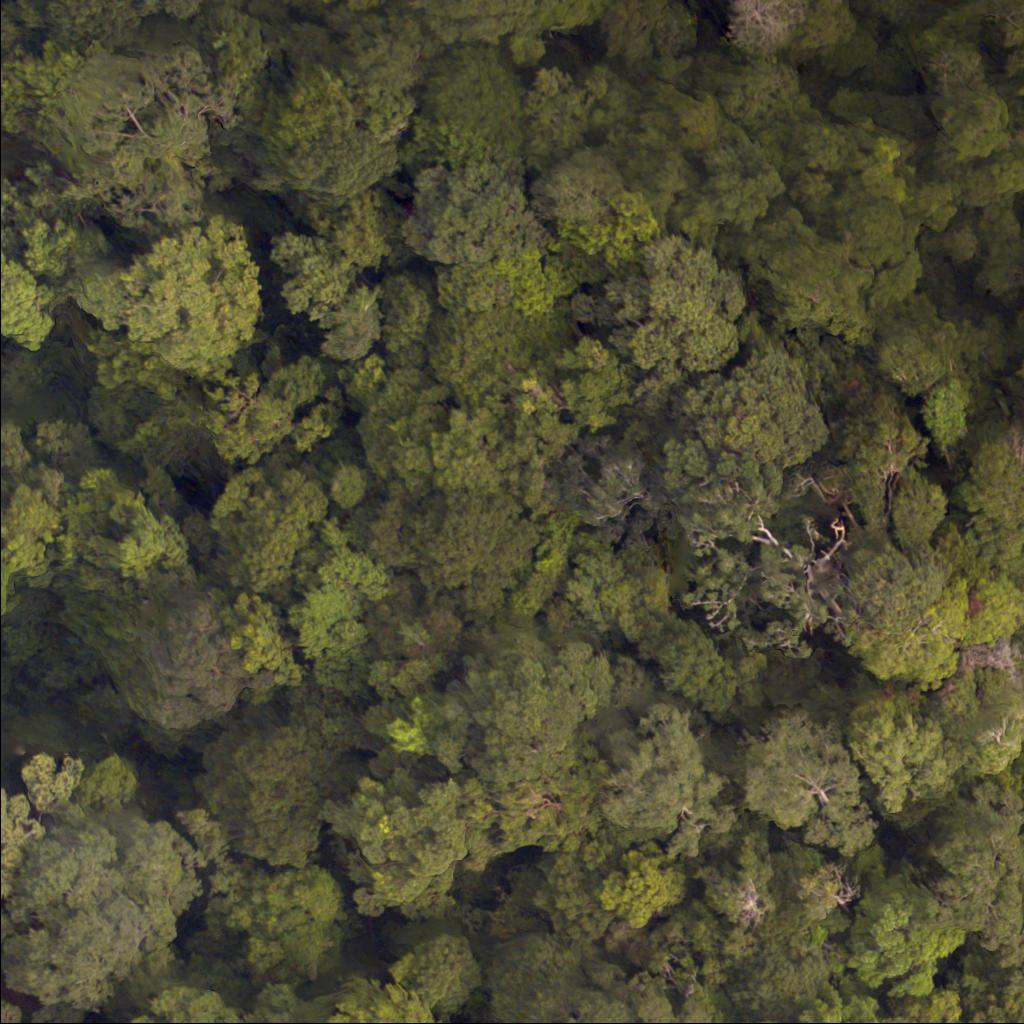crown: (659, 439, 856, 661), (712, 195, 876, 346), (783, 392, 931, 553), (601, 701, 741, 861), (598, 233, 744, 384), (735, 705, 877, 856), (837, 541, 971, 689), (844, 845, 965, 1003), (671, 348, 830, 468), (933, 778, 1023, 969), (739, 310, 899, 408), (632, 608, 765, 721), (915, 202, 1023, 330), (845, 693, 949, 816), (666, 156, 788, 256), (925, 668, 1023, 776), (760, 648, 883, 733), (862, 291, 960, 397), (958, 422, 1023, 577), (596, 435, 679, 553), (725, 944, 832, 1023), (614, 374, 704, 462), (596, 960, 711, 1023), (601, 843, 687, 926), (600, 566, 669, 637), (598, 189, 660, 267), (842, 198, 909, 269), (964, 571, 1023, 649), (892, 475, 951, 553), (794, 982, 890, 1023), (957, 633, 1023, 692), (796, 862, 858, 922), (724, 877, 778, 931), (951, 976, 1011, 1023), (790, 167, 832, 222), (886, 993, 962, 1023), (1009, 356, 1023, 423), (1003, 962, 1023, 998), (1000, 997, 1023, 1023)
